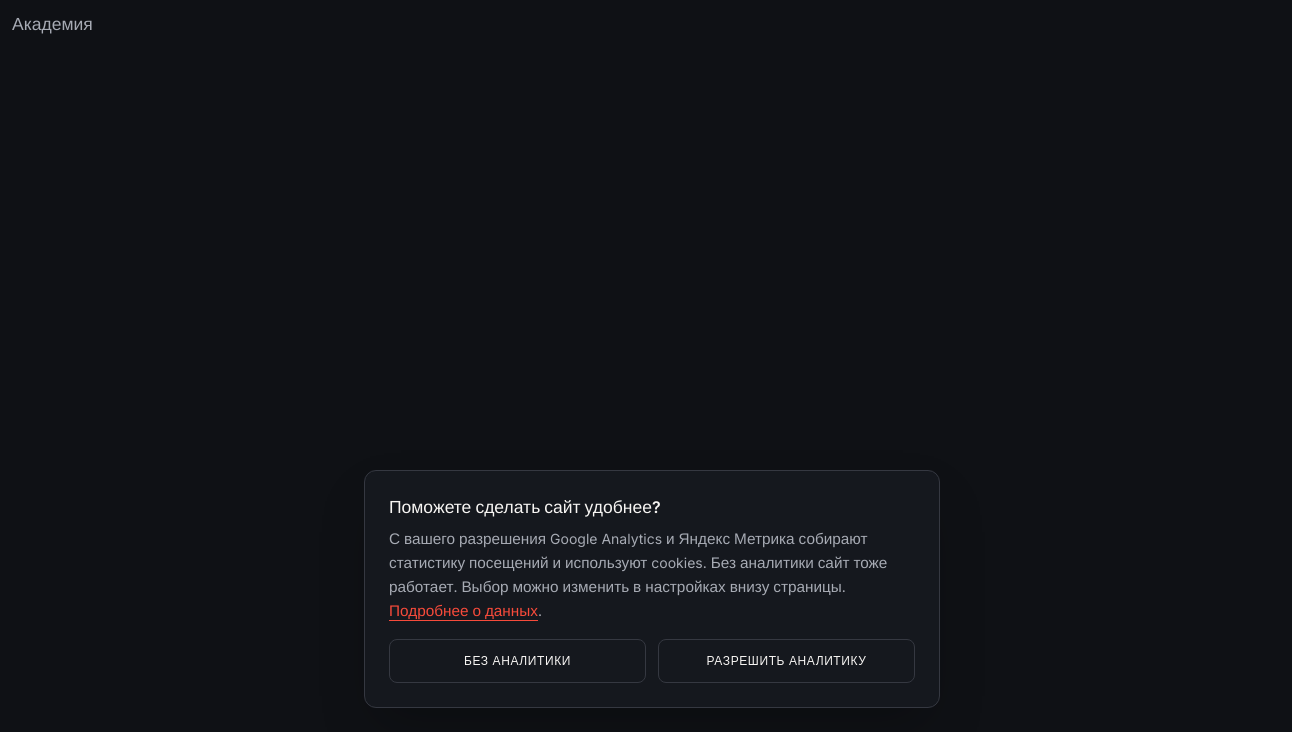
Test: failed page navigation › keeps a recovery screen when an Academy chunk cannot be loaded
Step 1. Click the link "Академия" → click(52, 24), box [12,14,93,34]
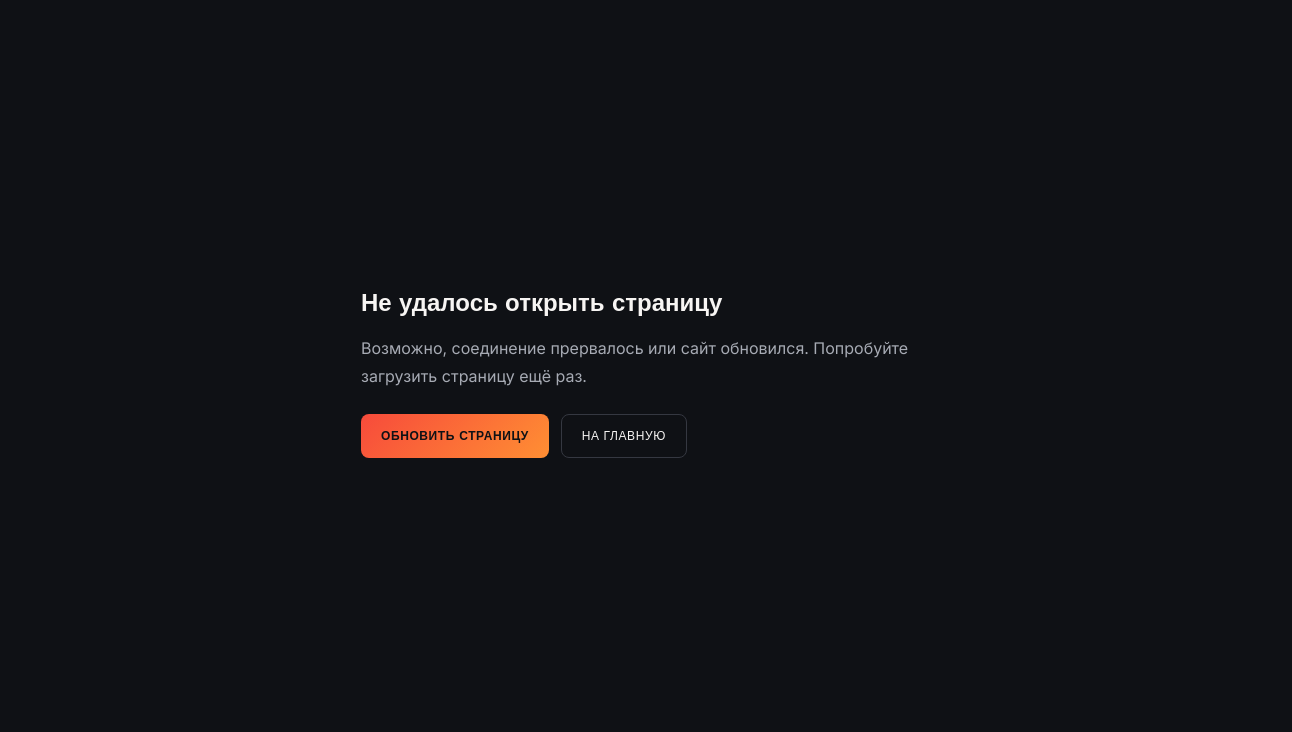
Expected: the message shows "Не удалось открыть страницу", [361,287,722,317]
Expected: the button "Обновить страницу" is shown, [361,414,549,458]
